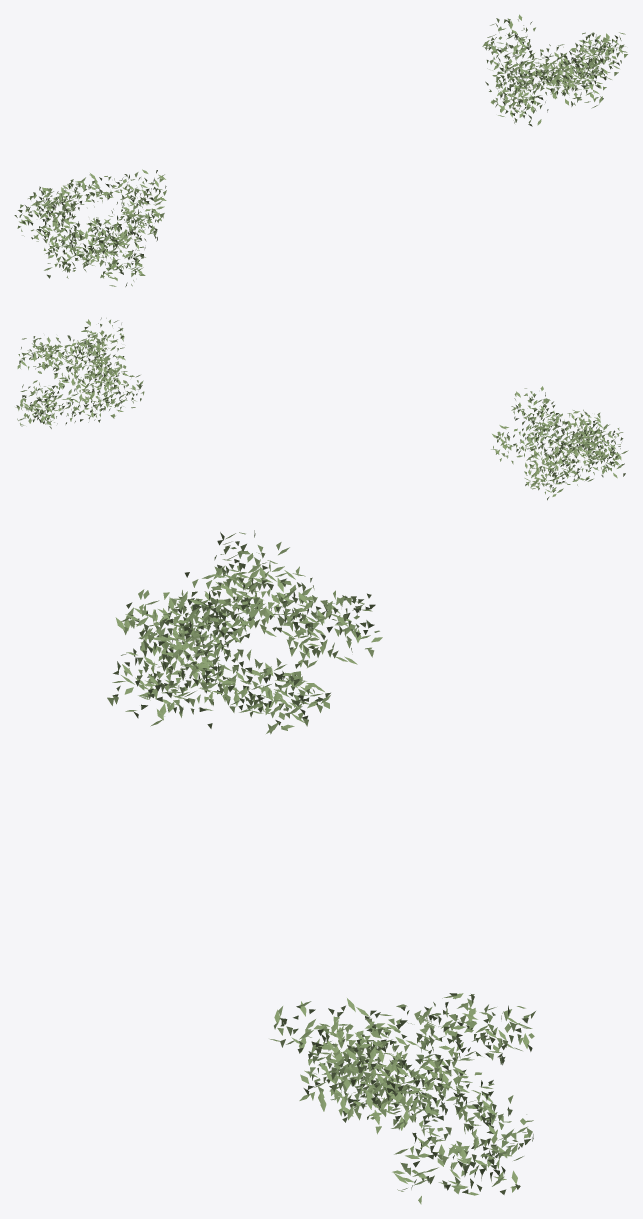
Rendered from xiyuan-vegetation-18-medium.glb.
3 renders of one model, top to bottom at view 1: azimuth 30°, elevation 25°; view 2: azimuth 150°, elevation 25°; view 3: azimuth 270°, elevation 25°, orthographic. The views are drawn at different scales.
Visible parts, largest first — view 1: vegetation broadleaf leaves; view 2: vegetation broadleaf leaves; view 3: vegetation broadleaf leaves.
Part boxes in pixels (bbox=[...]): vegetation broadleaf leaves: bbox=[14, 14, 627, 286]; vegetation broadleaf leaves: bbox=[15, 317, 628, 500]; vegetation broadleaf leaves: bbox=[107, 530, 535, 1204].
Bounding box in the file's own units: 36.63 × 5.43 × 12.25.
